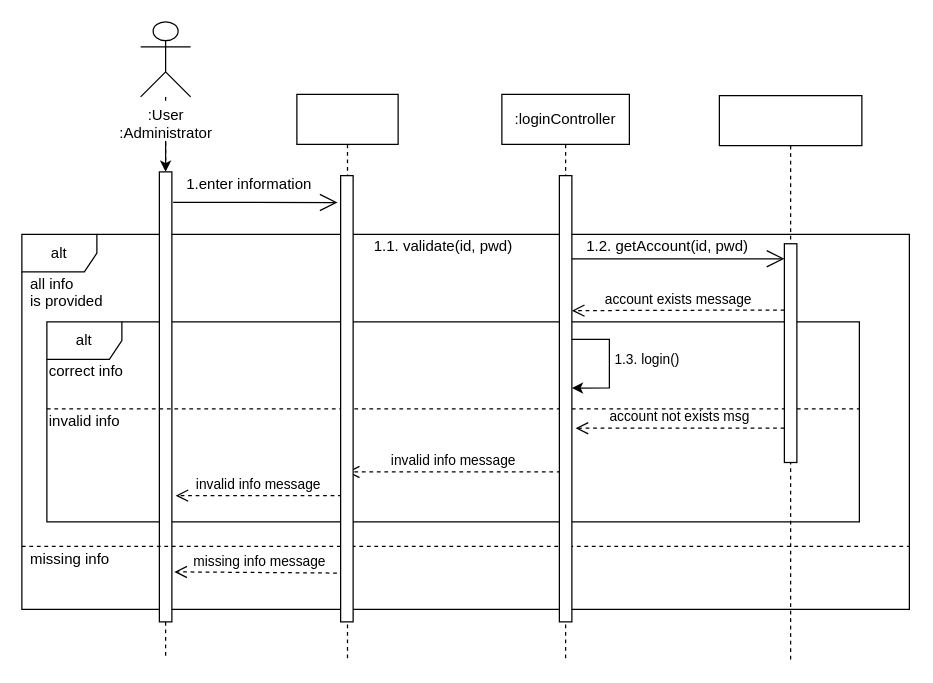
Some shapes in this 933 by 683 pixel diagram are drawn without their labels. The shapes that lost their labels are listed below. From the top down, each one's box as (x1, y1, x2, y2) in pixels, then its label:
(296, 93, 398, 661): :loginForm
(718, 94, 862, 661): :IAccountDatabase
